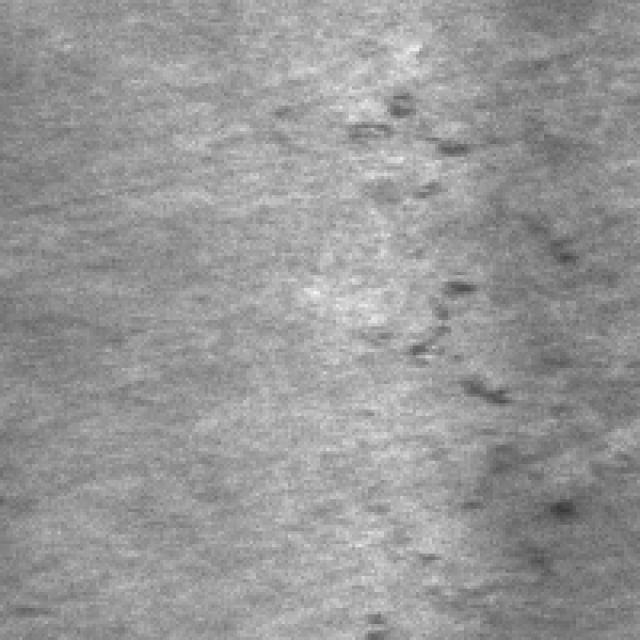rolled-in_scale: (400, 262, 566, 576), (330, 83, 467, 205)
